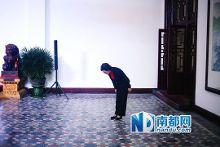bending: (96, 58, 133, 122)
